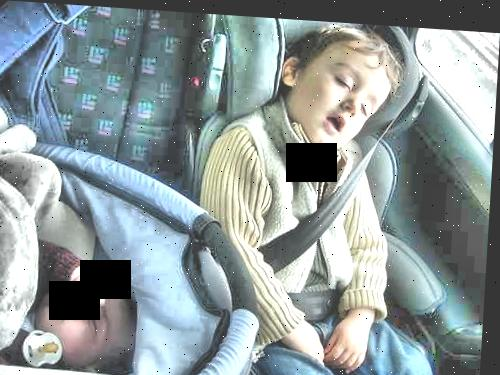seatbelt: (264, 80, 415, 271)
